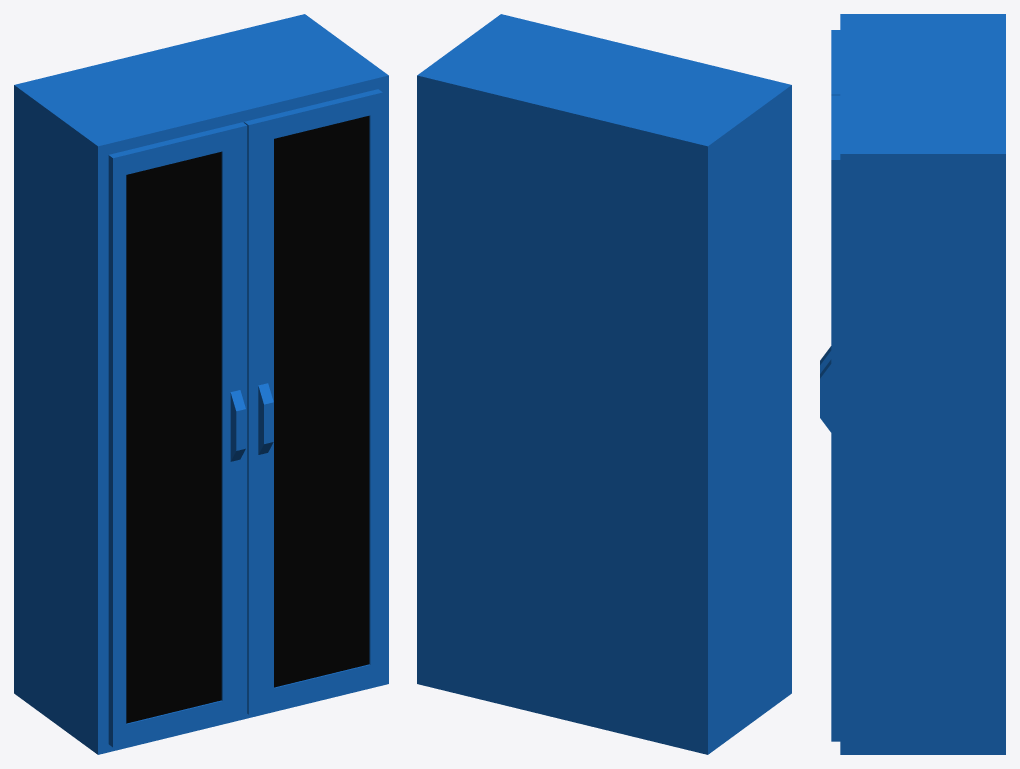
Rendered from SM_cabinet_3.fbx.
The picture shows the model from 3 angles, left to right: view 1: azimuth 30°, elevation 25°; view 2: azimuth 150°, elevation 25°; view 3: azimuth 270°, elevation 25°; orthographic projection.
Parts seen in each view (by area): view 1: Cloner_3, Cube_16, Cube_15; view 2: Cloner_3; view 3: Cloner_3, Cube_15, Cube_16.
Boxes of the visible parts, bbox=[...] form: Cloner_3: bbox=[14, 14, 388, 754]; Cube_16: bbox=[108, 122, 247, 747]; Cube_15: bbox=[244, 89, 382, 714]; Cloner_3: bbox=[417, 14, 791, 754]; Cloner_3: bbox=[840, 14, 1005, 754]; Cube_15: bbox=[820, 95, 840, 741]; Cube_16: bbox=[820, 30, 840, 373].
Bounding box in the file's own units: 100 × 200 × 56.1.
